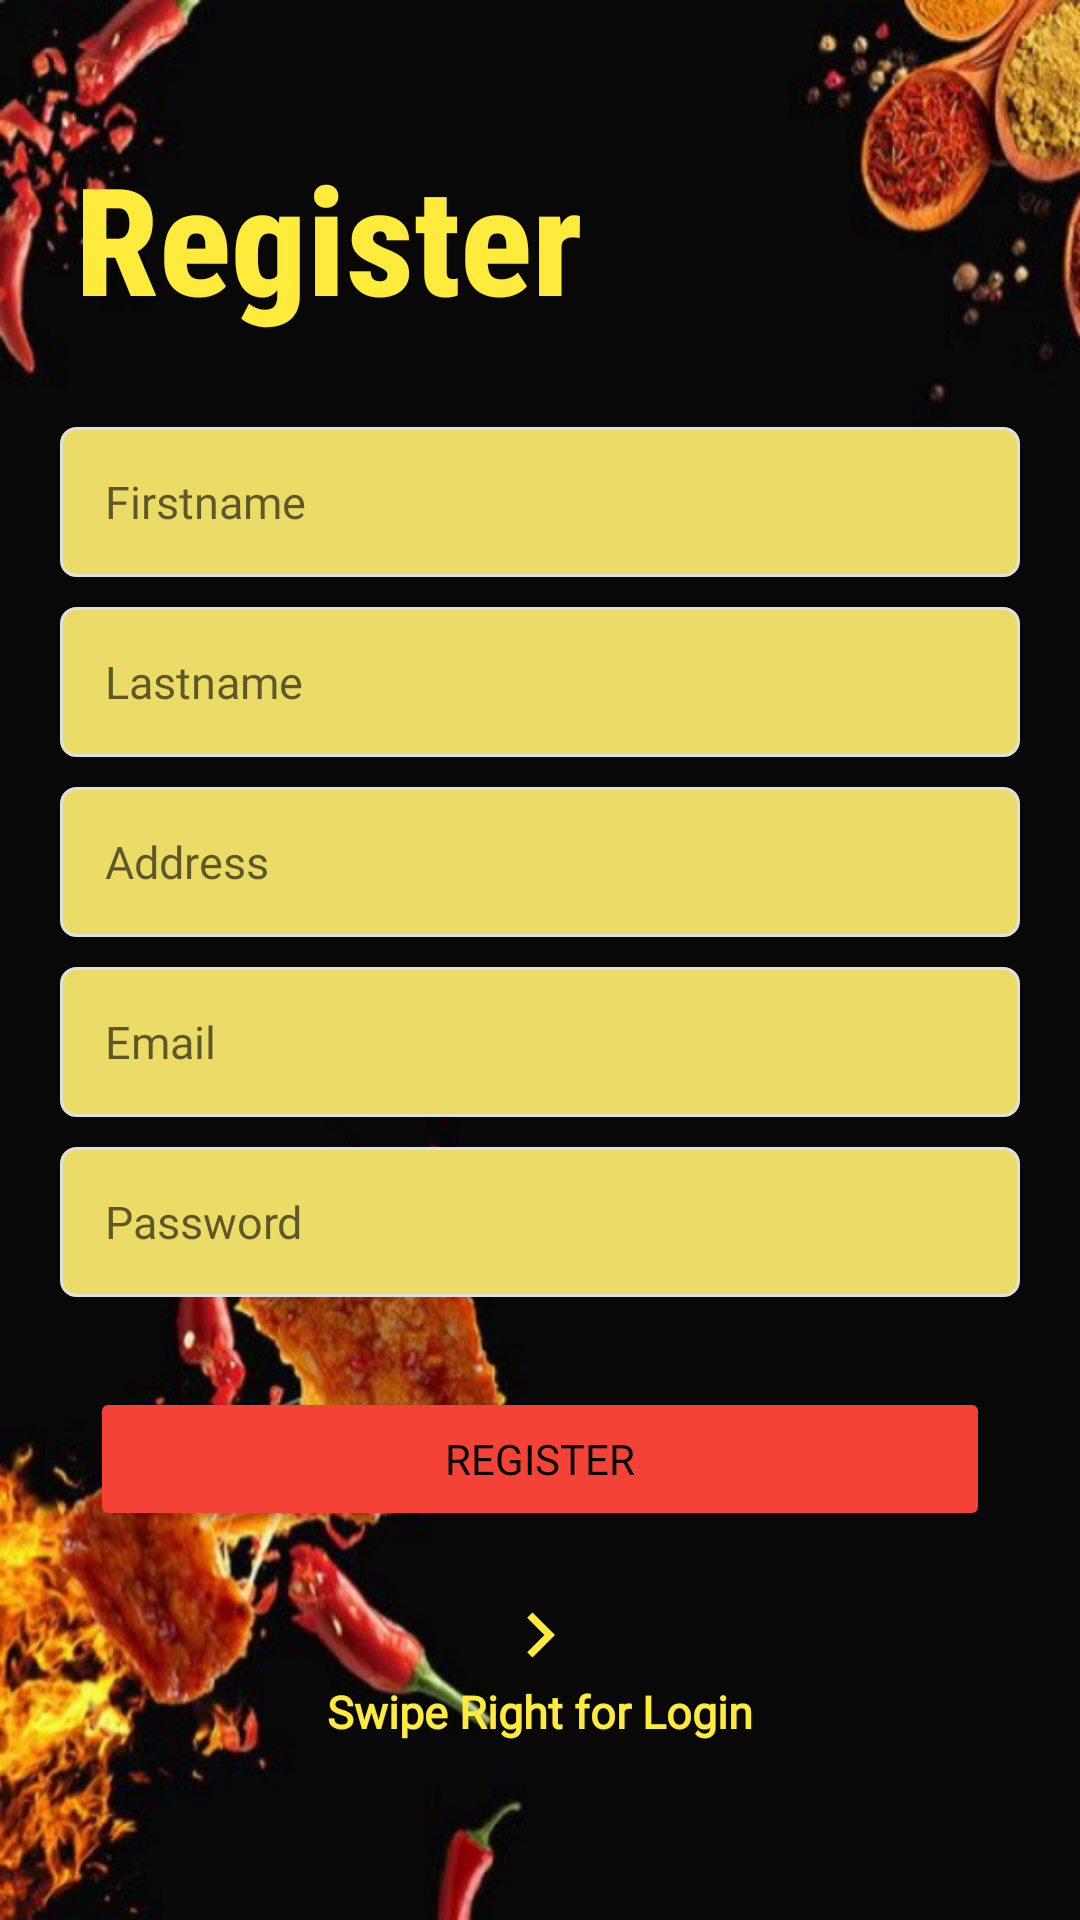

Named icons in this screenshot (1080px x 1920px) and their centers, (x=x, y=y):
arrow right: (x=541, y=1635)
